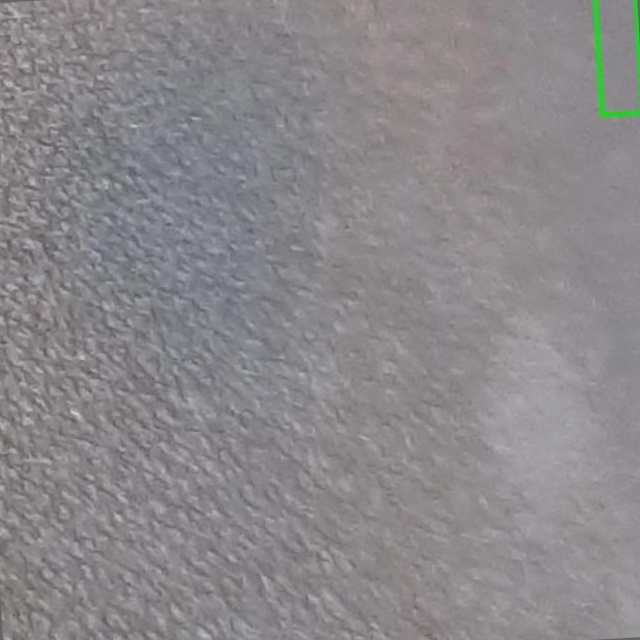Atopic Dermatitis: (596, 0, 639, 115)
